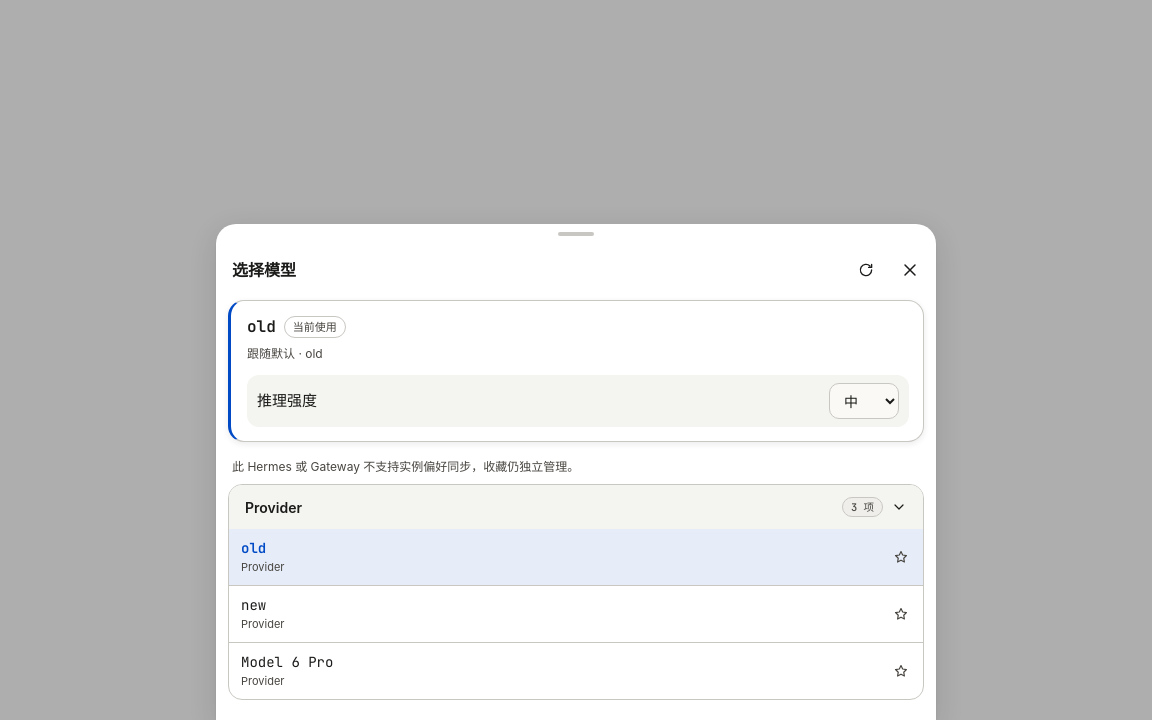
Scenario: deferred switches keep the sheet, current model and recents unchanged
The width and height of the screenshot is (1152, 720).
Click the button with class "model-pick" showing "new Provider" at (263, 624), box [241,586,879,642]
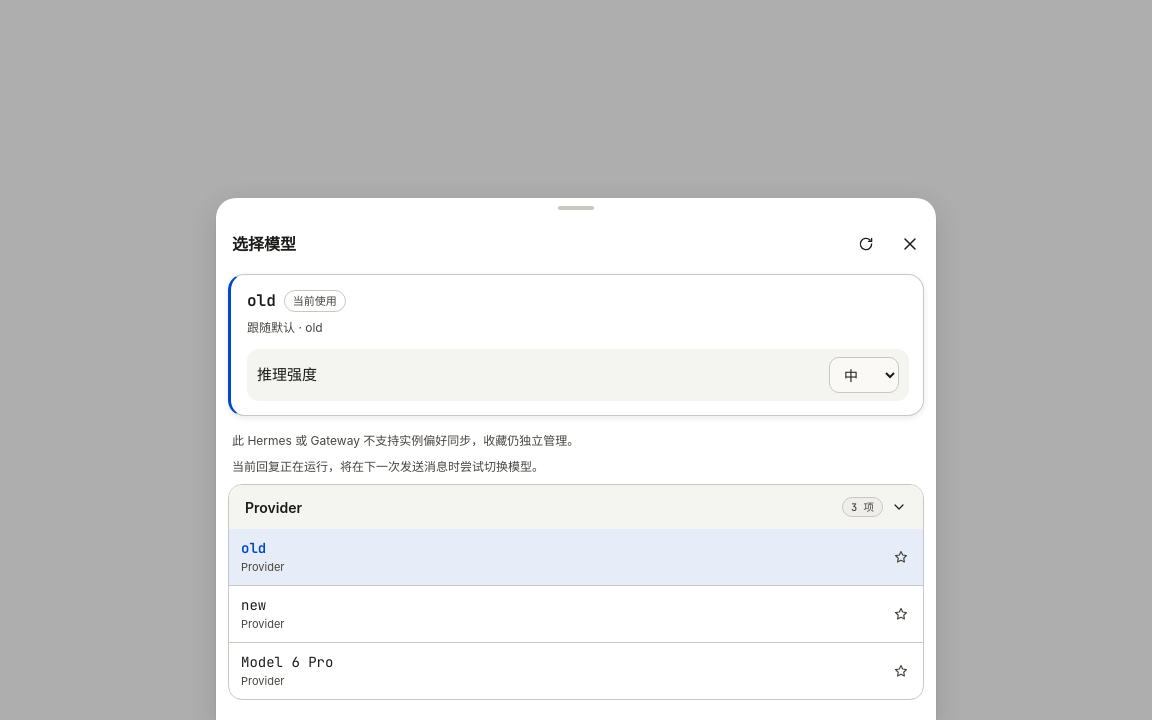
Expected: the text "下一次发送消息" is shown, [232,459,544,474]
